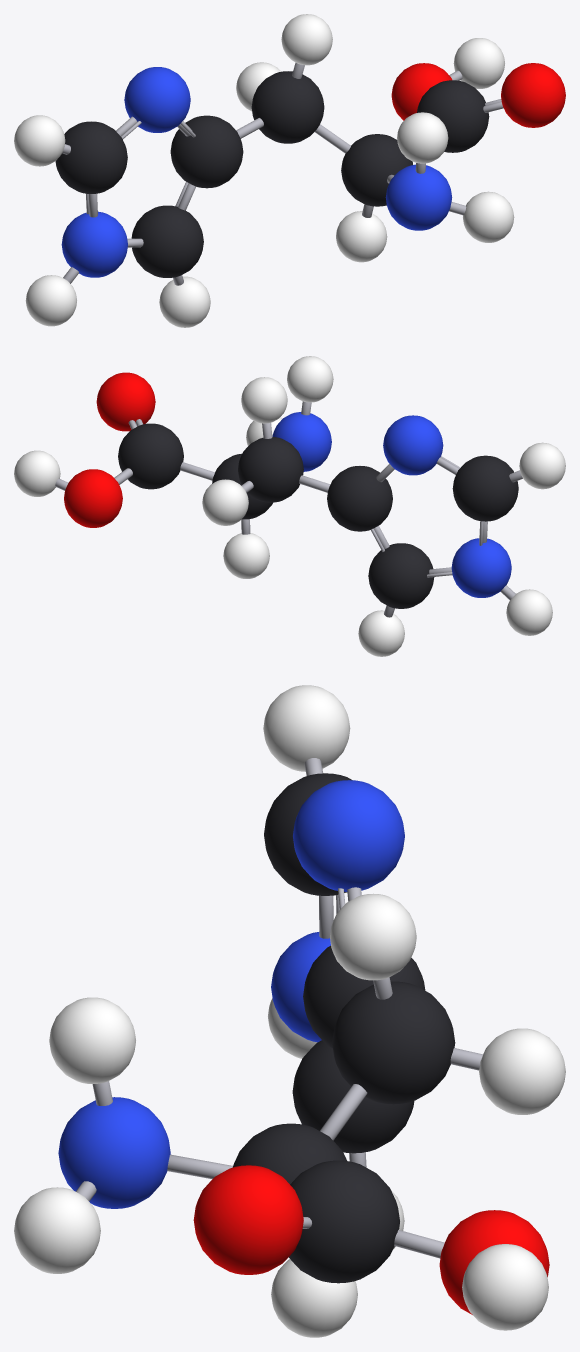
The model's file is histidine.glb.
3 renders of one model, top to bottom at view 1: azimuth 30°, elevation 25°; view 2: azimuth 150°, elevation 25°; view 3: azimuth 270°, elevation 25°, orthographic. The views are drawn at different scales.
Visible parts, largest first — view 1: C4, C3, C2, C6, N7, N5, N0, C1, O9, C8, H18, H15 (+8 smaller); view 2: C6, C3, C4, C8, C2, N7, N5, O10, O9, N0, H15, H18 (+8 smaller); view 3: C2, C8, N7, O9, N0, C4, H11, H15, H19, H12, H14, H18 (+10 smaller).
Part boxes in pixels (x1,y1,x2,y2): C4: (131,205,203,277); C3: (170,115,243,188); C2: (251,71,324,143); C6: (55,121,127,193); N7: (124,67,190,132); N5: (61,211,127,277); N0: (385,164,452,230); C1: (341,134,412,206); O9: (501,63,565,127); C8: (417,80,489,152); H18: (14,115,65,166); H15: (281,14,332,65); C6: (452,455,518,521); C3: (327,466,392,531); C4: (368,543,434,608); C8: (118,423,183,489); C2: (238,437,303,502); N7: (383,415,443,475); N5: (451,538,511,597); O10: (64,469,122,527); O9: (96,372,155,431); N0: (272,412,331,471); H15: (241,377,287,423); H18: (519,442,565,489); C2: (332,981,455,1104); C8: (288,1160,399,1283); N7: (293,780,404,891); O9: (193,1165,303,1274); N0: (58,1097,170,1208); C4: (292,1040,414,1153); H11: (14,1187,100,1273); H15: (330,893,416,980); H19: (462,1244,548,1330); H12: (49,997,135,1083); H14: (479,1028,565,1114); H18: (263,685,350,771).
Bounding box in the file's own units: 8.78 × 4.26 × 4.57.
